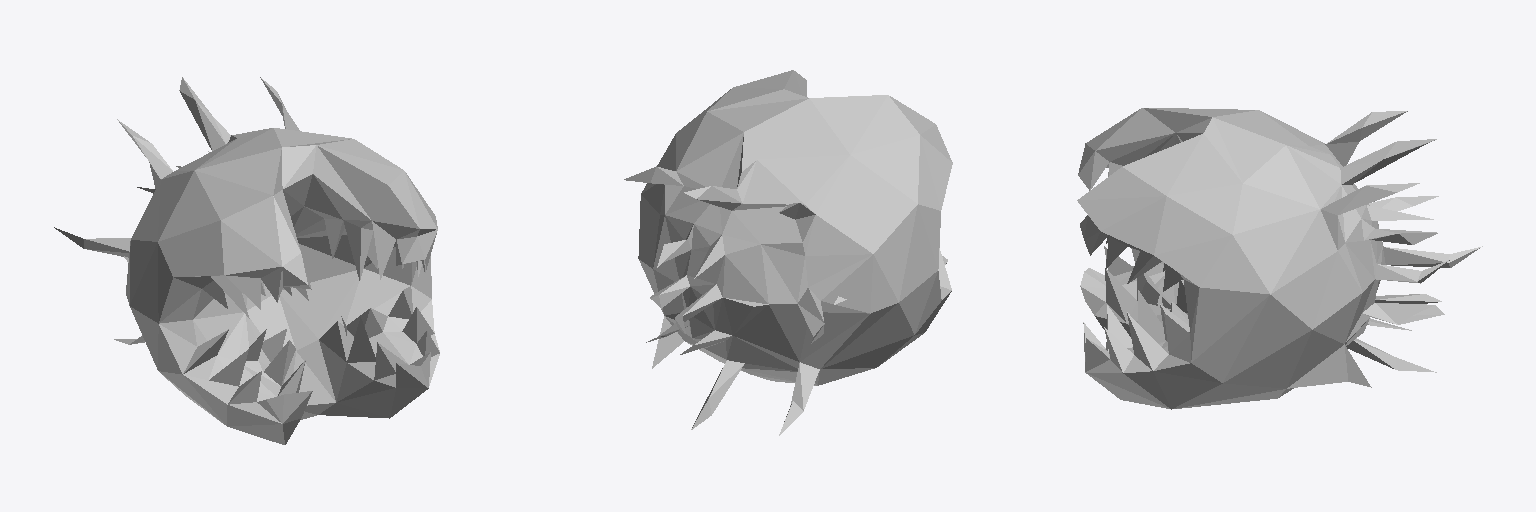
3 views of the same model, side by side, from view 1: azimuth 30°, elevation 25°; view 2: azimuth 150°, elevation 25°; view 3: azimuth 270°, elevation 25° (orthographic).
Visible parts, largest first — view 1: ai_model; view 2: ai_model; view 3: ai_model.
Part boxes in pixels (bbox=[...]): ai_model: bbox=[54, 77, 439, 444]; ai_model: bbox=[624, 70, 952, 435]; ai_model: bbox=[1077, 108, 1482, 409].
Size of the model in its own units: 0.6673 by 0.6431 by 0.8767.